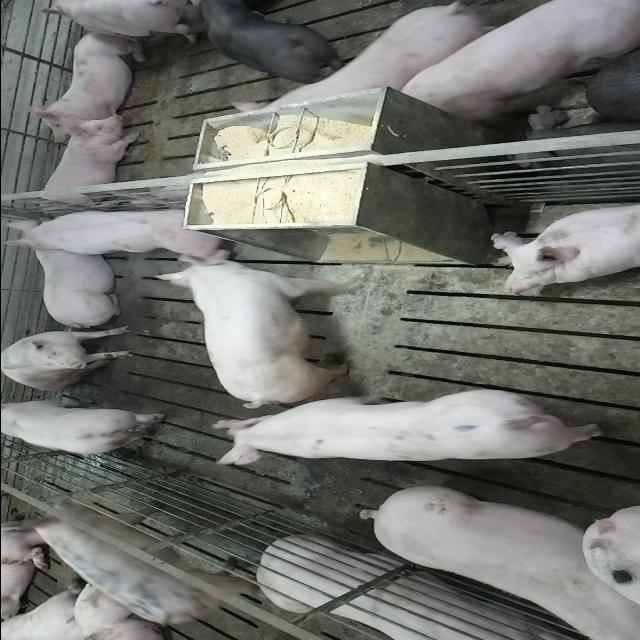Feeding: (156, 256, 356, 410)
Lateral_lying: (258, 538, 586, 640)
Sitting: (6, 204, 236, 260), (2, 326, 138, 392)
Standing: (18, 494, 274, 625), (210, 381, 614, 462), (396, 2, 640, 125), (290, 1, 510, 103), (194, 0, 353, 82), (0, 398, 166, 456)
Sternal_lying: (487, 200, 640, 294), (20, 30, 148, 140), (32, 118, 142, 214), (30, 239, 124, 325)
